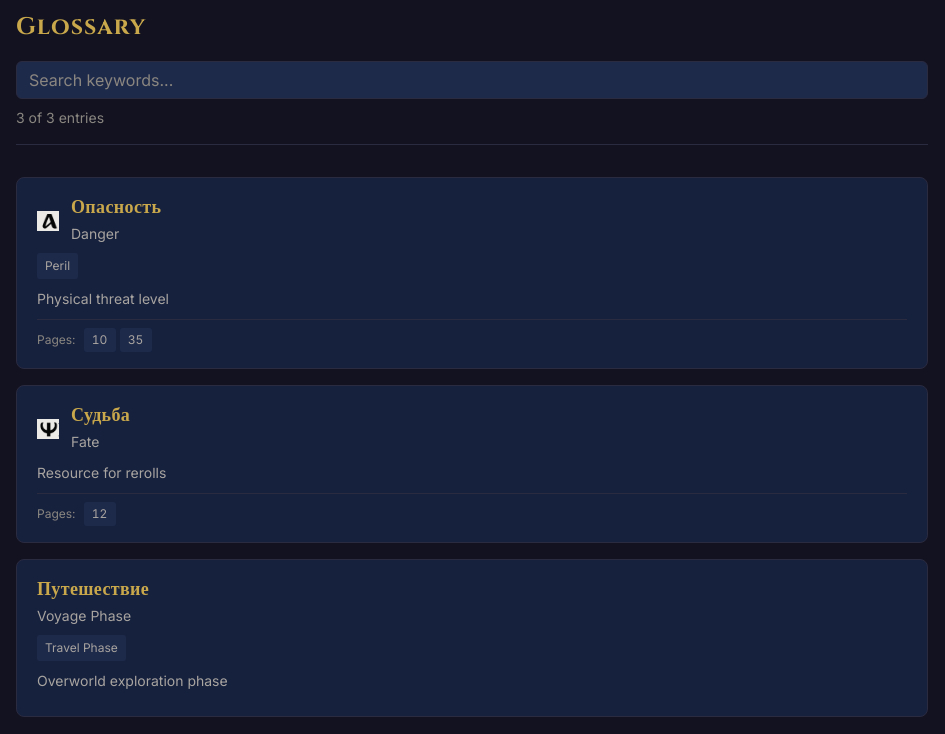
GlossaryPage › shows empty state when no entries match
The image size is (945, 734).
expect the heading "Опасность" is shown: met, box [71, 194, 161, 221]
In the search field with placeholder "Search keywords...": (472, 80) [16, 61, 928, 99], type "zzzznotfound"
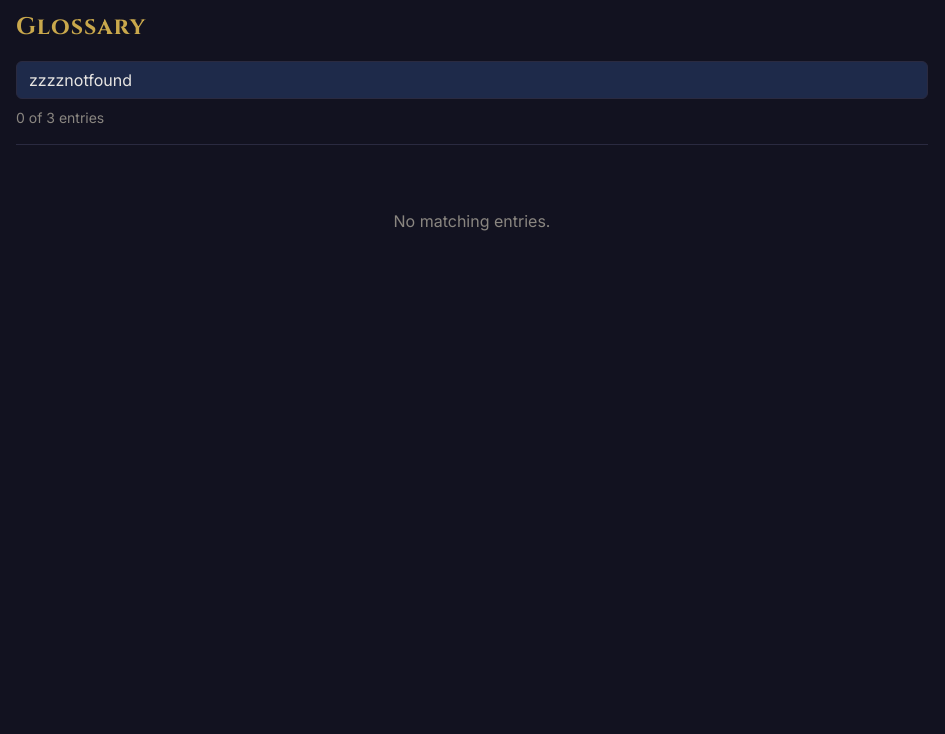
expect the text "No matching entries." is shown: met, box [394, 211, 550, 231]
expect the text "0 of 3 entries" is shown: met, box [16, 109, 104, 126]
